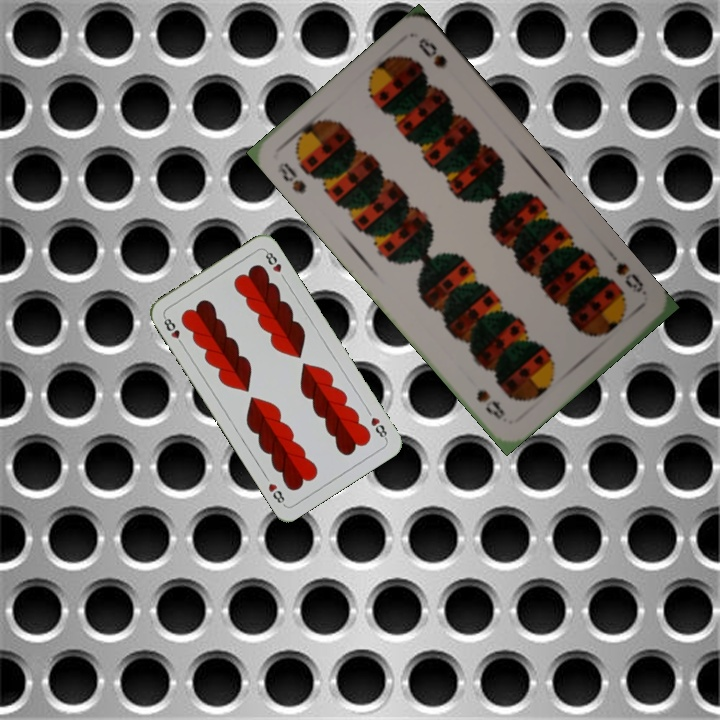H8: (160, 312, 186, 349), (367, 413, 390, 442)
S8: (611, 259, 649, 298), (274, 158, 309, 197)
